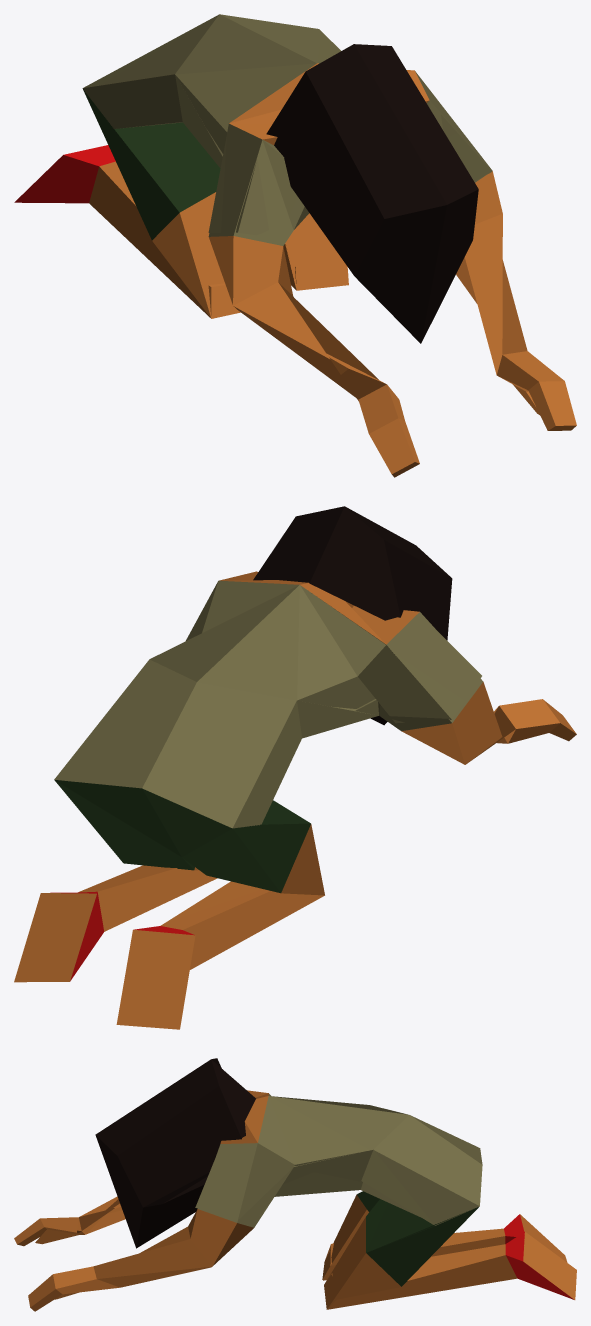
Rendered from BowWoman2.fbx.
3 renders of one model, top to bottom at view 1: azimuth 30°, elevation 25°; view 2: azimuth 150°, elevation 25°; view 3: azimuth 270°, elevation 25°, orthographic. The views are drawn at different scales.
Parts seen in each view (by area): view 1: woman_01; view 2: woman_01; view 3: woman_01.
Part boxes in pixels (<box>): woman_01: <box>14,14,576,477</box>; woman_01: <box>14,506,576,1029</box>; woman_01: <box>14,1058,576,1311</box>.
Bounding box in the file's own units: 50.38 × 55.62 × 124.
